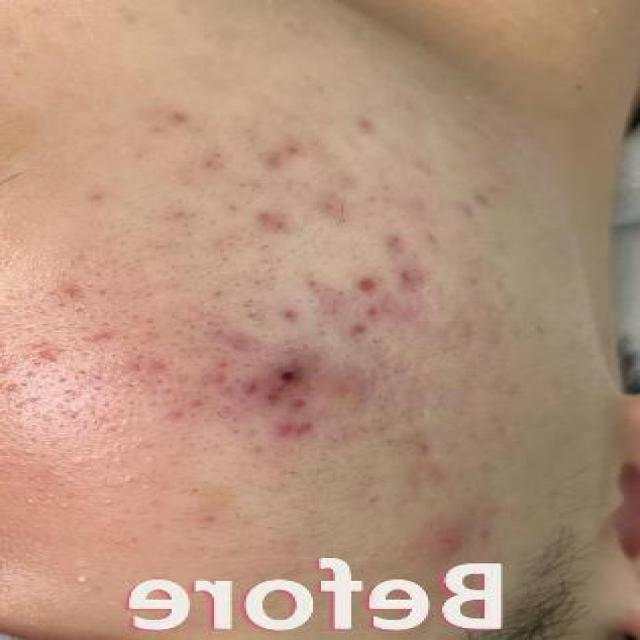Pimples: (335, 258, 386, 344), (238, 130, 307, 186), (428, 511, 487, 574), (236, 206, 299, 240), (386, 262, 432, 299)
